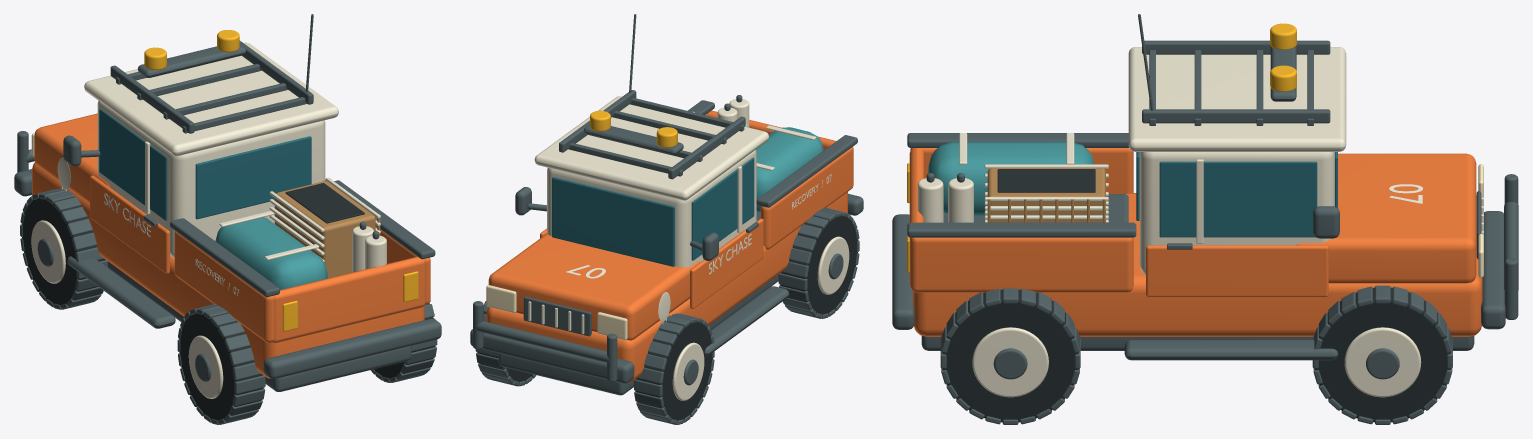
Rendered from sky_chase_car.glb.
3 renders of one model, left to right at view 1: azimuth 30°, elevation 25°; view 2: azimuth 150°, elevation 25°; view 3: azimuth 270°, elevation 25°, orthographic. The views are drawn at different scales.
Visible parts, largest first — view 1: sky-chase-car; view 2: sky-chase-car; view 3: sky-chase-car.
Part boxes in pixels (x1,y1,x2,y2): sky-chase-car: [14, 14, 441, 424]; sky-chase-car: [470, 14, 863, 424]; sky-chase-car: [892, 14, 1518, 424].
Bounding box in the file's own units: 2.59 × 3.79 × 5.56.
